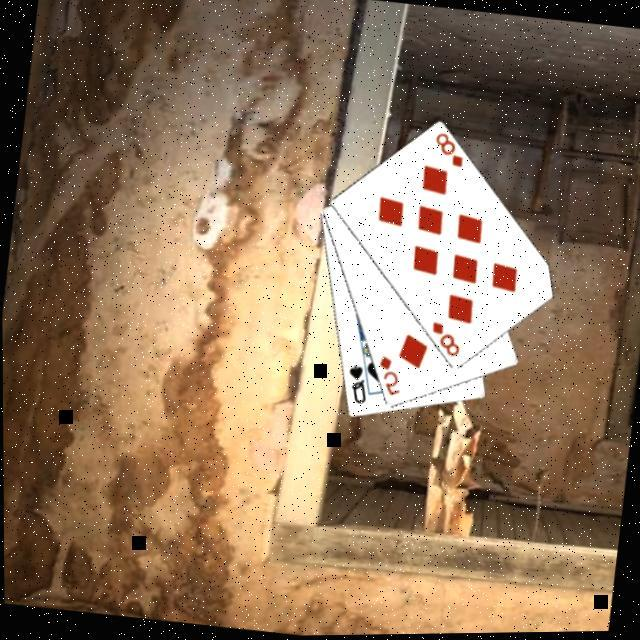5D: (370, 354, 404, 401)
8D: (422, 319, 462, 362), (426, 130, 466, 173)
QS: (338, 362, 369, 410)
